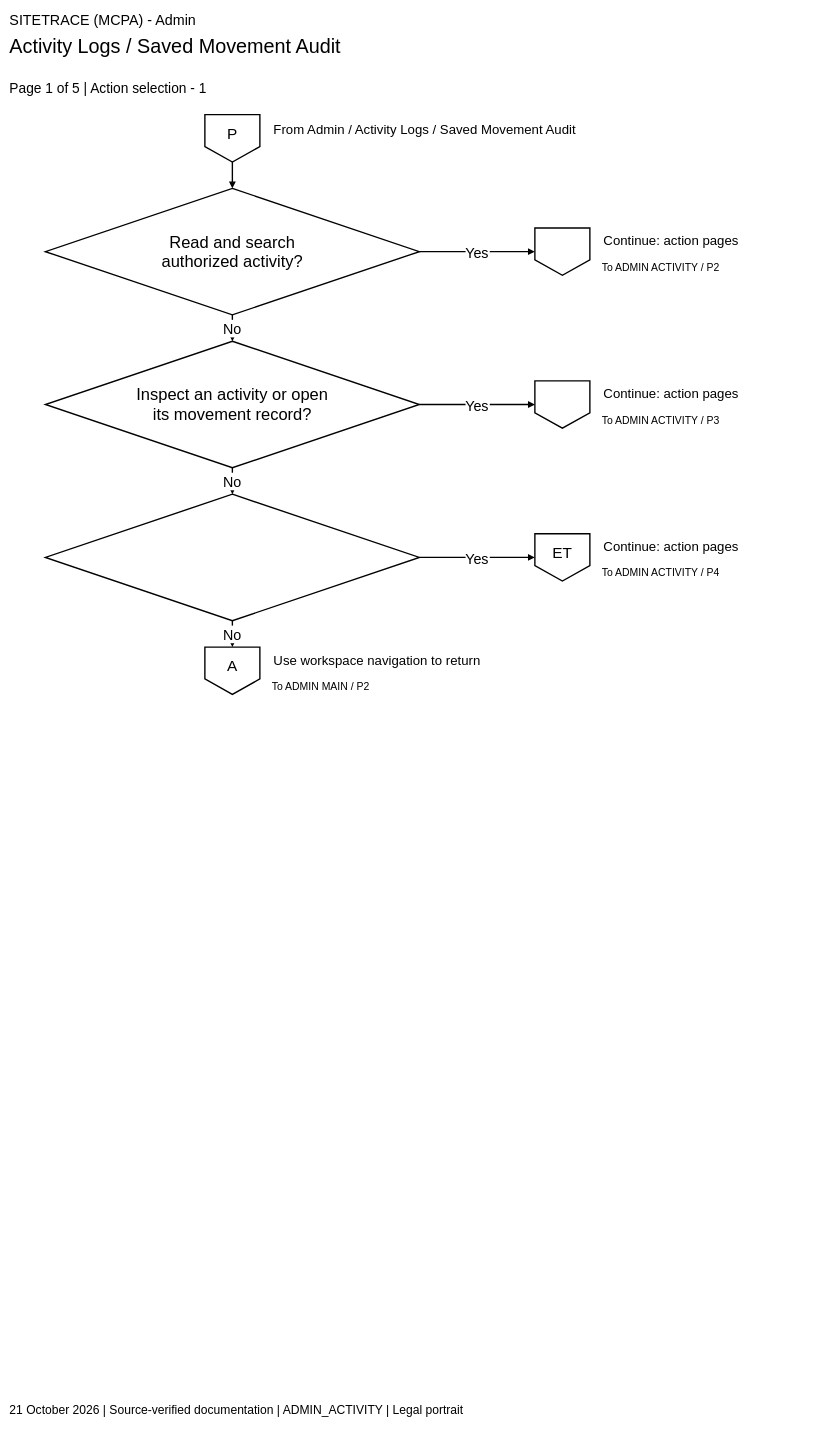
This 827x1430 diagram has some shape labels left out. The centre of each missing label's shape, as x and y in pixels:
ER: the point at 562,251
ES: the point at 562,404
Export filtered activity PDF?: the point at 232,557
